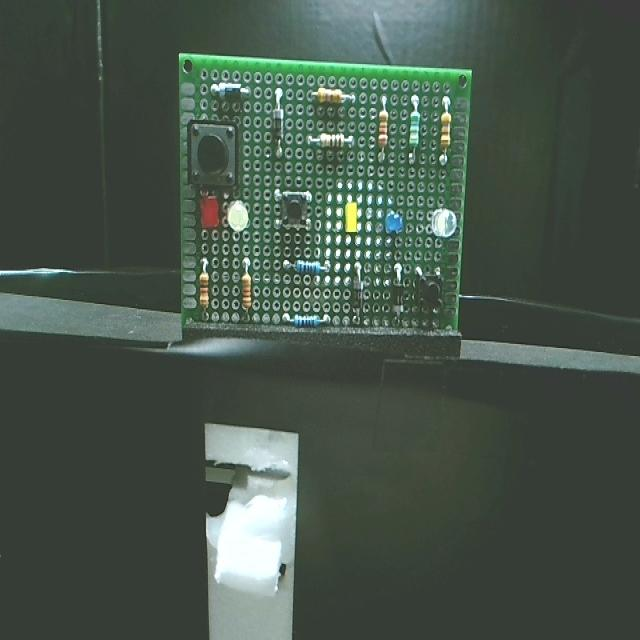diode: (203, 76, 246, 110), (268, 98, 293, 153), (349, 266, 367, 326), (389, 264, 405, 328)
led: (425, 199, 457, 246), (230, 197, 252, 249), (198, 192, 225, 230), (342, 197, 360, 240), (380, 203, 400, 233)
resistor: (278, 305, 332, 337), (407, 96, 425, 178), (237, 264, 259, 329), (373, 98, 395, 161), (284, 250, 330, 280), (440, 87, 456, 172), (309, 81, 351, 109), (197, 258, 217, 314), (310, 134, 351, 156)
switch: (182, 118, 242, 191), (274, 185, 313, 243), (411, 272, 448, 310)
